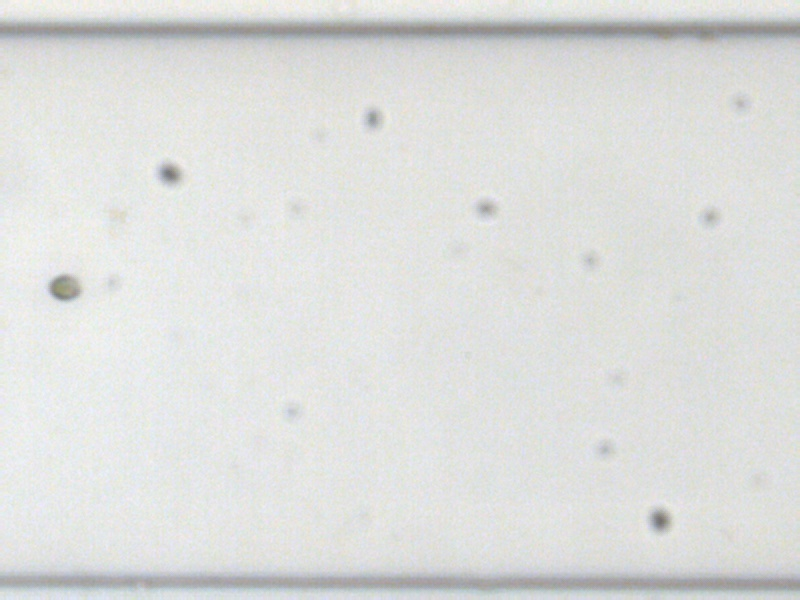Dunaliella salina: (47, 274, 82, 303)
